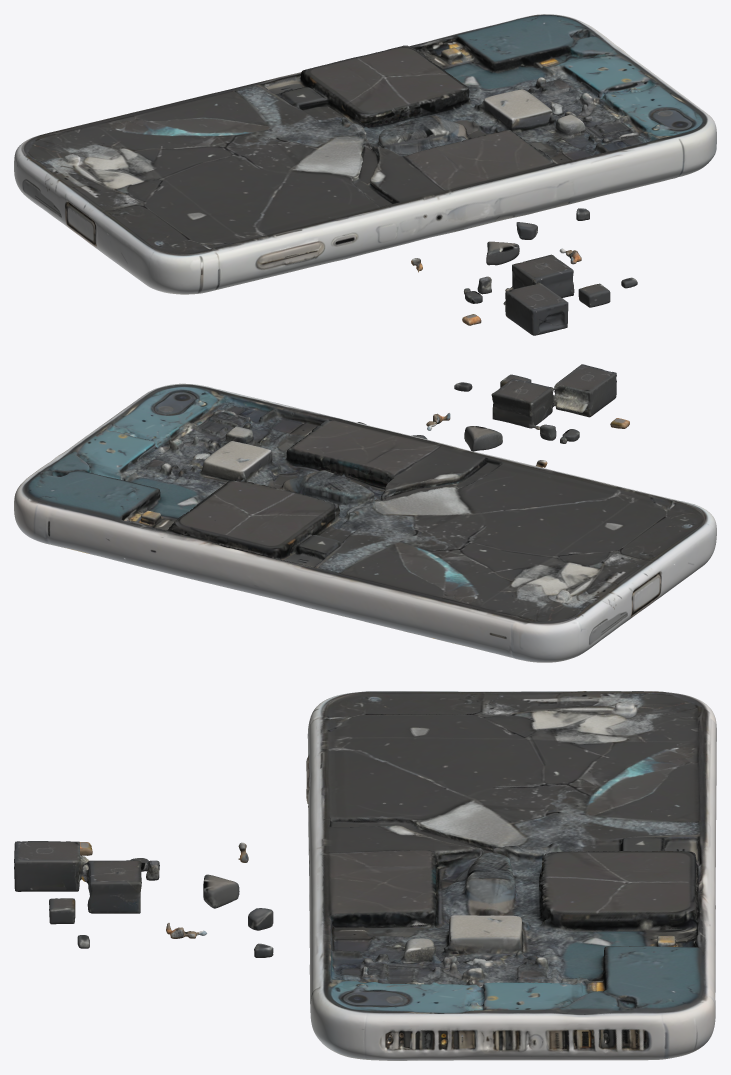
Rendered from broken_smartphone_glb__fbx__textures.glb.
3 views of the same model, one above another, from view 1: azimuth 30°, elevation 25°; view 2: azimuth 150°, elevation 25°; view 3: azimuth 270°, elevation 25° (orthographic). The views are drawn at different scales.
Visible parts, largest first — view 1: input; view 2: input; view 3: input.
Part boxes in pixels (left/top/right/bottom): input: left=14, top=14, right=716, bottom=335; input: left=14, top=364, right=716, bottom=662; input: left=14, top=691, right=716, bottom=1060.
Bounding box in the file's own units: 1.16 × 0.1 × 1.05.
Materials: 1 (1 with a texture image).
